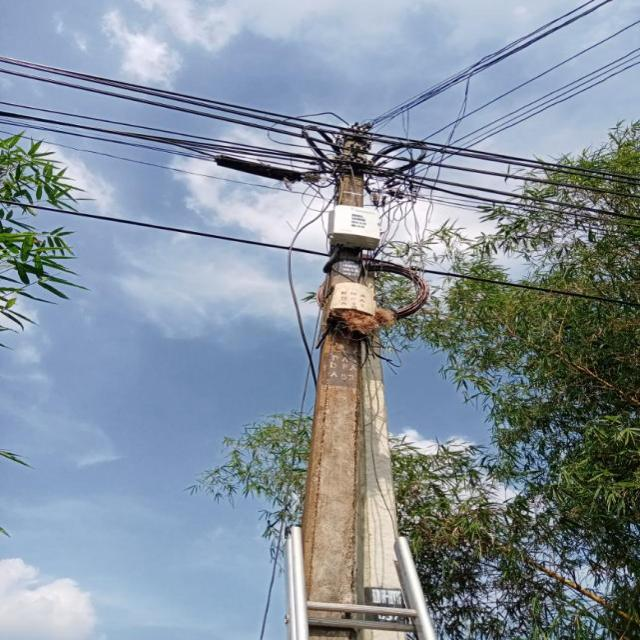light_pole: (282, 114, 422, 640)
